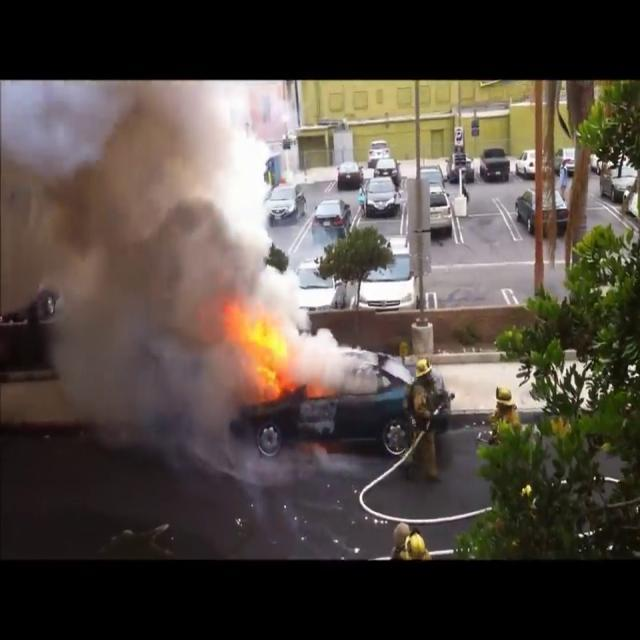Fire: (223, 298, 300, 402)
Smoke: (2, 81, 273, 456)
